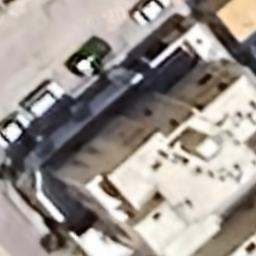pickup: (67, 34, 112, 80)
sedan: (0, 111, 30, 152), (130, 0, 173, 28)
van: (19, 78, 67, 122)
